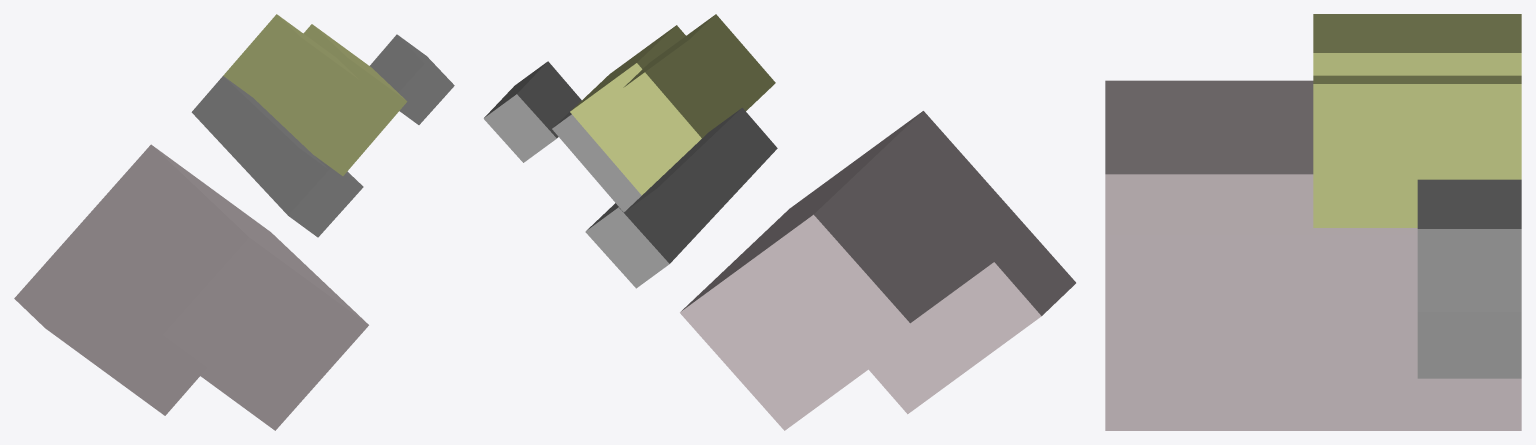
The picture shows the model from 3 angles, left to right: view 1: azimuth 30°, elevation 25°; view 2: azimuth 150°, elevation 25°; view 3: azimuth 270°, elevation 25°; orthographic projection. The views are drawn at different scales.
Visible parts, largest first — view 1: 0_1_1_3_2_2_3_3_3_0; view 2: 0_1_1_3_2_2_3_3_3_0; view 3: 0_1_1_3_2_2_3_3_3_0.
Boxes of the visible parts, <box> form: 0_1_1_3_2_2_3_3_3_0: <box>14,14,454,430</box>; 0_1_1_3_2_2_3_3_3_0: <box>483,14,1075,430</box>; 0_1_1_3_2_2_3_3_3_0: <box>1105,14,1521,430</box>.
Bounding box in the file's own units: 23.72 × 16.54 × 12.
